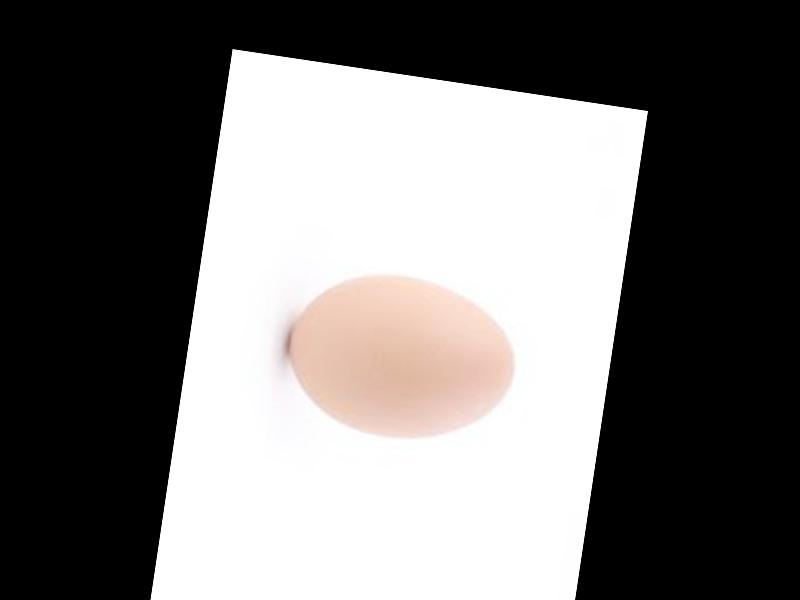Eggs: (278, 261, 525, 455)
